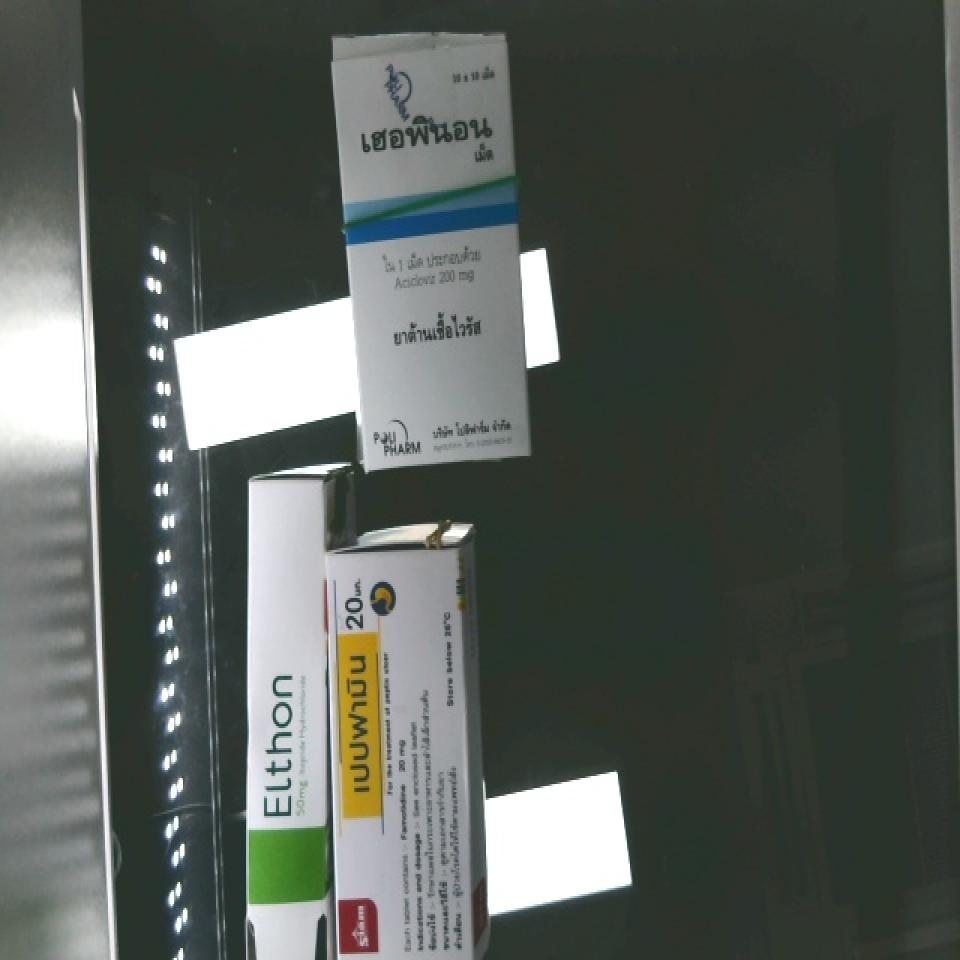medicine_box: (329, 29, 531, 464), (334, 535, 470, 960), (249, 472, 333, 955)
medicine_label_obb: (336, 93, 516, 197), (331, 571, 381, 849), (251, 656, 320, 835)
